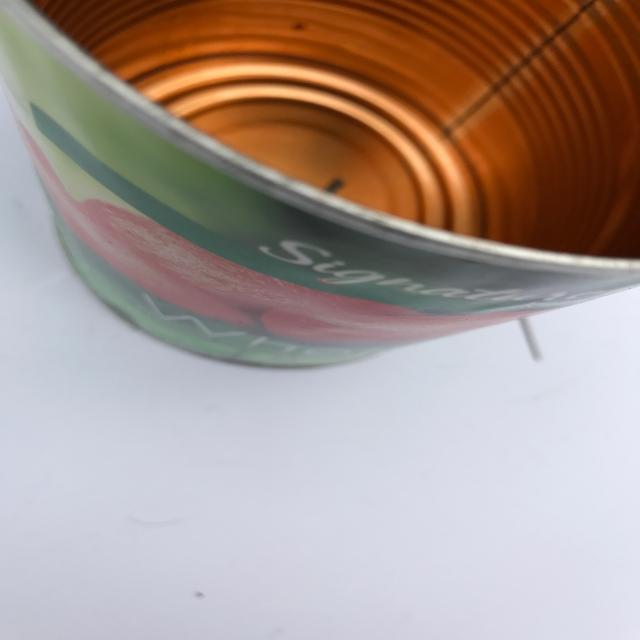Metal: (1, 5, 640, 397)
